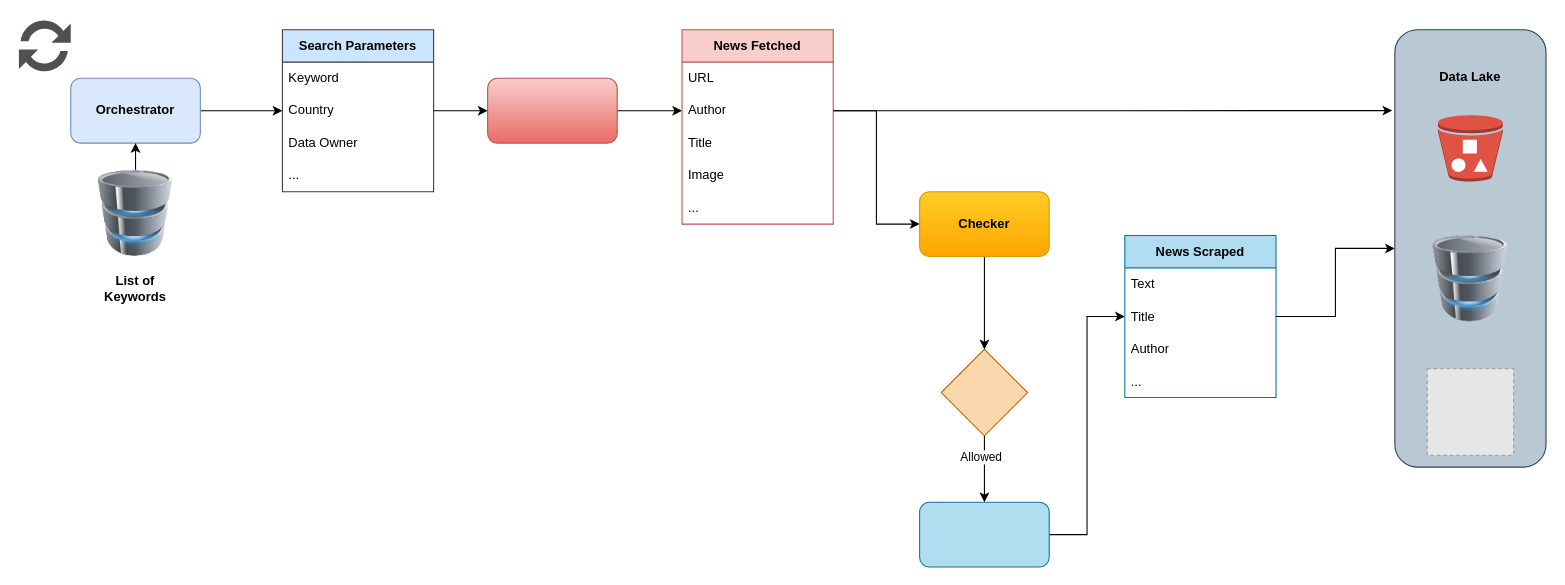
This 1565x585 diagram has some shape labels left out. Grey dashed boxes stand in for pictures. The centre of each missing label's shape, as x and y in pixels:
Check Robots.txt: (x=984, y=392)
Fetcher: (x=552, y=110)
Scraper: (x=984, y=534)
